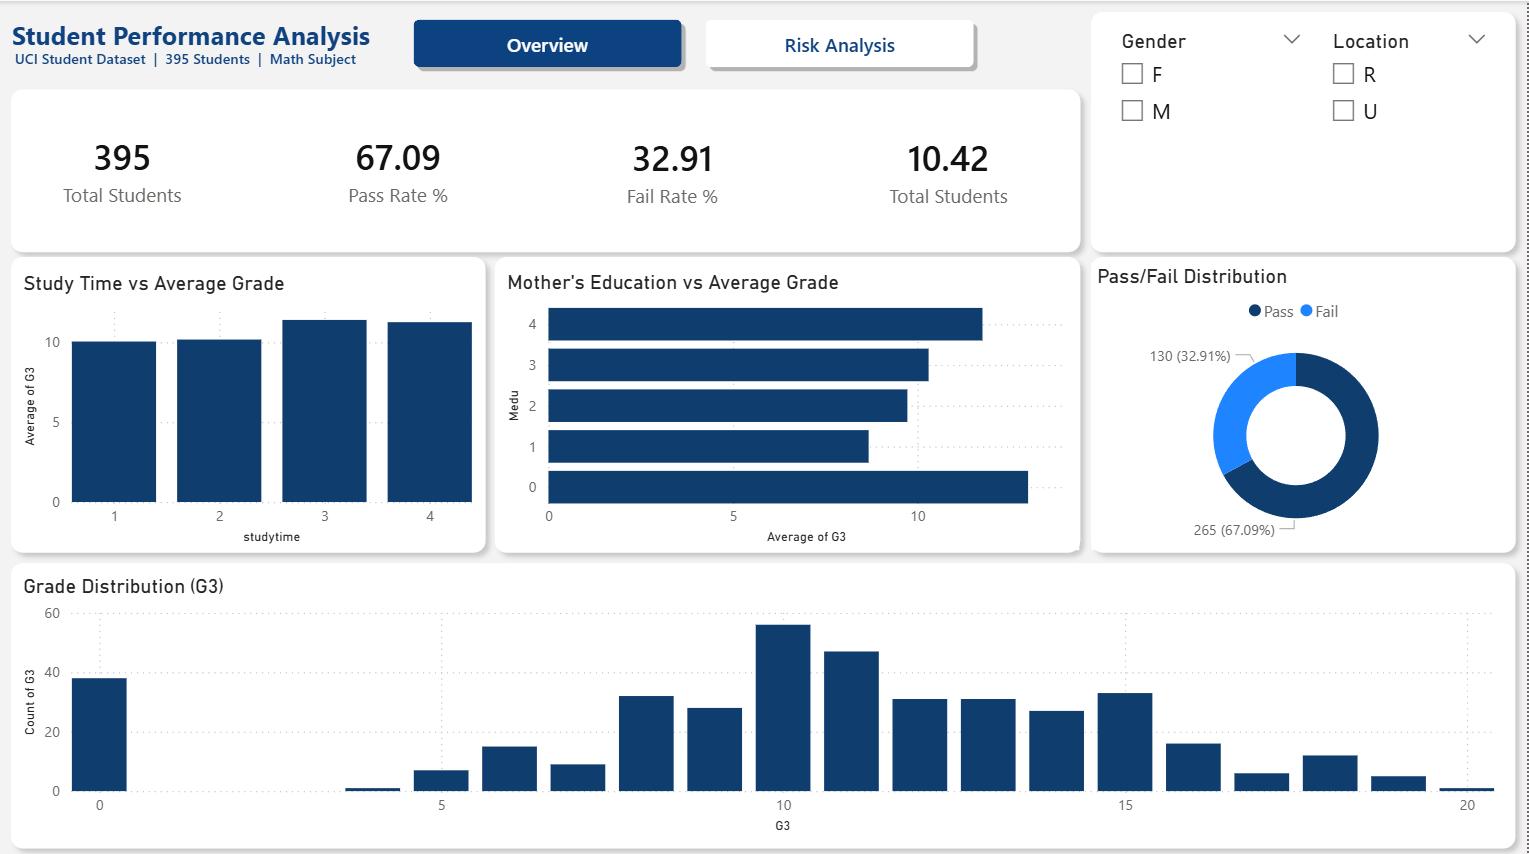

The page's visual inventory and layout, read from the dashboard file:
{"tool":"powerbi","page":{"name":"Overview","canvas":[1280,720],"ordinal":0},"visuals":[{"type":"shape","box":[0,0,334.2,70],"z":0},{"type":"shape","box":[0,65.1,915.1,154.7],"z":1000},{"type":"shape","box":[905.6,0,374.4,219.8],"z":2000},{"type":"shape","box":[0,205.8,416.3,266.3],"z":3000},{"type":"shape","box":[905.6,205.8,374.4,266.3],"z":4000},{"type":"shape","box":[405.8,205.8,509.3,266.3],"z":5000},{"type":"shape","box":[0,462.5,1280,257.5],"z":6000},{"type":"cardVisual","fields":{"Data":["CountNonNull(student_performance.G3)"]},"box":[35,77.9,136.2,127.5],"z":7000},{"type":"cardVisual","fields":{"Data":["Measures table.Pass Rate"]},"box":[266.2,77.5,135,127.5],"z":8000},{"type":"cardVisual","fields":{"Data":["Measures table.Fail Rate"]},"box":[496.2,78.3,136.2,127.5],"z":9000},{"type":"cardVisual","fields":{"Data":["Avg(student_performance.G3)"]},"box":[727.5,78.8,136.2,127.5],"z":10000},{"type":"slicer","fields":{"Values":["student_performance.sex"]},"box":[927.9,18.6,175.6,173.3],"z":11000},{"type":"slicer","fields":{"Values":["student_performance.address"]},"box":[1104.7,18.6,153.5,173.3],"z":12000},{"type":"pageNavigator","box":[341.2,10,481.2,50],"z":13000},{"type":"textbox","box":[7.4,33.7,397.4,32.6],"z":14000},{"type":"clusteredColumnChart","title":"Study Time vs Average Grade","fields":{"Category":["student_performance.studytime"],"Y":["Avg(student_performance.G3)"]},"box":[15,226.2,386.2,233.8],"z":15000},{"type":"clusteredBarChart","title":"Mother''s Education vs Average Grade","fields":{"Category":["student_performance.Medu"],"Y":["Avg(student_performance.G3)"]},"box":[420,225,485,235],"z":16000},{"type":"donutChart","title":"Pass/Fail Distribution","fields":{"Category":["student_performance.pass_fail"],"Y":["CountNonNull(student_performance.pass_fail)"]},"box":[915,220,343.8,240],"z":17000},{"type":"clusteredColumnChart","title":"Grade Distribution (G3)","fields":{"Category":["student_performance.G3"],"Y":["CountNonNull(student_performance.G3)"]},"box":[15,480,1243.8,222.5],"z":18000}]}

Visuals, with their boxes in screenshot pixels (x1, y1, x2, y2), scaled from the page's 1280x720 canvas onto the 1529x854 screenshot:
shape: x1=0, y1=0, x2=399, y2=83
shape: x1=0, y1=77, x2=1093, y2=261
shape: x1=1082, y1=0, x2=1528, y2=261
shape: x1=0, y1=244, x2=497, y2=560
shape: x1=1082, y1=244, x2=1528, y2=560
shape: x1=485, y1=244, x2=1093, y2=560
shape: x1=0, y1=549, x2=1528, y2=853
cardVisual - CountNonNull(student_performance.G3): x1=42, y1=92, x2=205, y2=244
cardVisual - Measures table.Pass Rate: x1=318, y1=92, x2=479, y2=243
cardVisual - Measures table.Fail Rate: x1=593, y1=93, x2=755, y2=244
cardVisual - Avg(student_performance.G3): x1=869, y1=93, x2=1032, y2=245
slicer - student_performance.sex: x1=1108, y1=22, x2=1318, y2=228
slicer - student_performance.address: x1=1320, y1=22, x2=1503, y2=228
pageNavigator: x1=408, y1=12, x2=982, y2=71
textbox: x1=9, y1=40, x2=484, y2=79
"Study Time vs Average Grade" clusteredColumnChart: x1=18, y1=268, x2=479, y2=546
"Mother''s Education vs Average Grade" clusteredBarChart: x1=502, y1=267, x2=1081, y2=546
"Pass/Fail Distribution" donutChart: x1=1093, y1=261, x2=1504, y2=546
"Grade Distribution (G3)" clusteredColumnChart: x1=18, y1=569, x2=1504, y2=833
